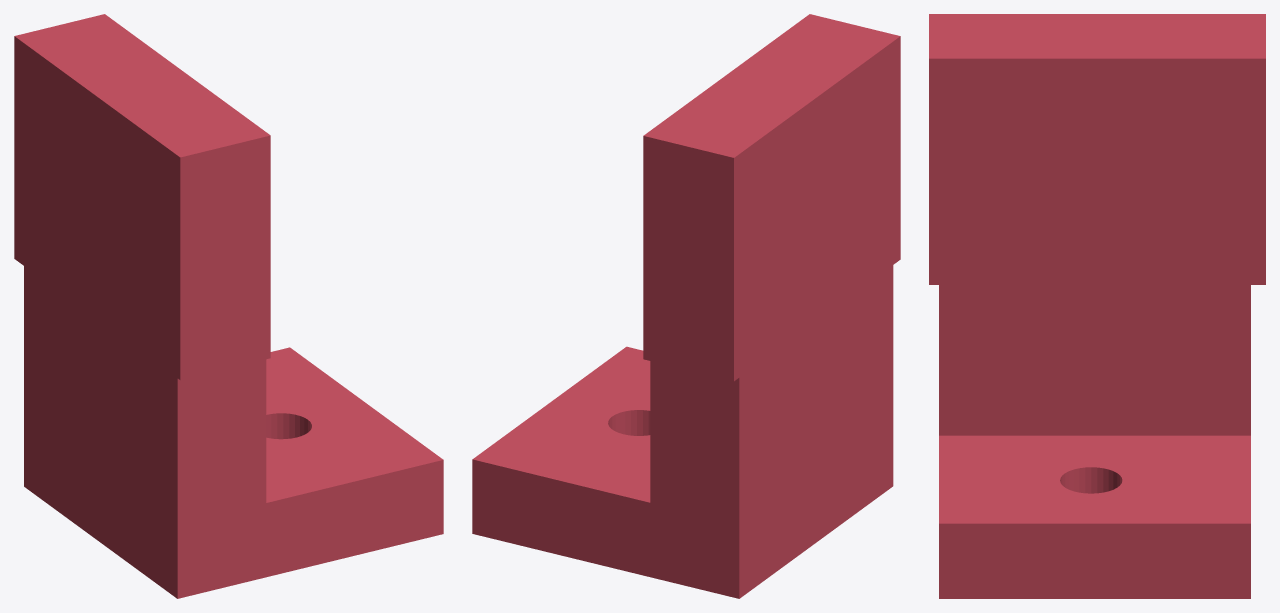
File: camme_cabine_TOR.glb
3 renders of one model, left to right at view 1: azimuth 30°, elevation 25°; view 2: azimuth 150°, elevation 25°; view 3: azimuth 270°, elevation 25°, orthographic.
Visible parts, largest first — view 1: Mesh_Mesh_head_geo.001_lambert2SG.001; view 2: Mesh_Mesh_head_geo.001_lambert2SG.001; view 3: Mesh_Mesh_head_geo.001_lambert2SG.001.
Part boxes in pixels (x1=…): Mesh_Mesh_head_geo.001_lambert2SG.001: x1=14, y1=14, x2=443, y2=598; Mesh_Mesh_head_geo.001_lambert2SG.001: x1=472, y1=14, x2=900, y2=598; Mesh_Mesh_head_geo.001_lambert2SG.001: x1=929, y1=14, x2=1265, y2=598.
Bounding box in the file's own units: 0.0252 × 0.04 × 0.027.
